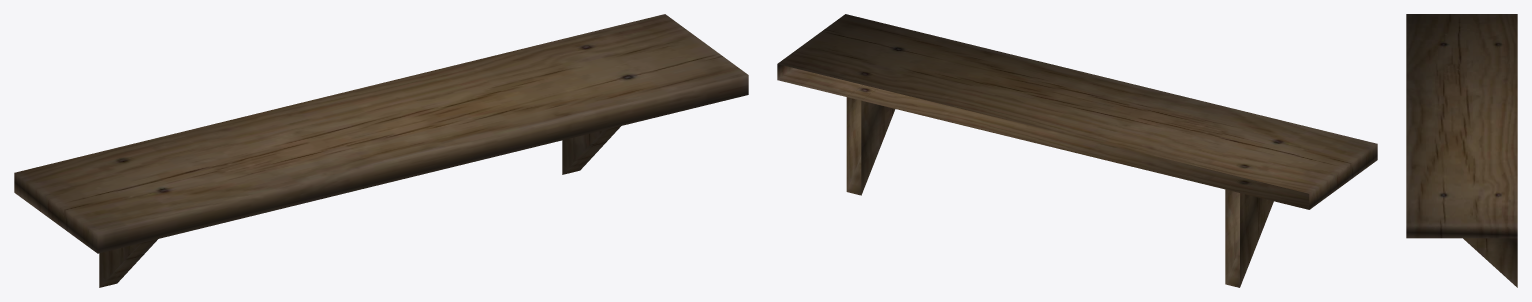
File: Tv_Bench.glb
The picture shows the model from 3 angles, left to right: view 1: azimuth 30°, elevation 25°; view 2: azimuth 150°, elevation 25°; view 3: azimuth 270°, elevation 25°; orthographic projection. The views are drawn at different scales.
Parts seen in each view (by area): view 1: shelf_wood; view 2: shelf_wood; view 3: shelf_wood.
Boxes of the visible parts, bbox=[...] form: shelf_wood: bbox=[14, 14, 748, 287]; shelf_wood: bbox=[777, 14, 1377, 287]; shelf_wood: bbox=[1406, 14, 1517, 287].
Bounding box in the file's own units: 2.31 × 0.46 × 0.5125.
Materials: 1 (1 with a texture image).
